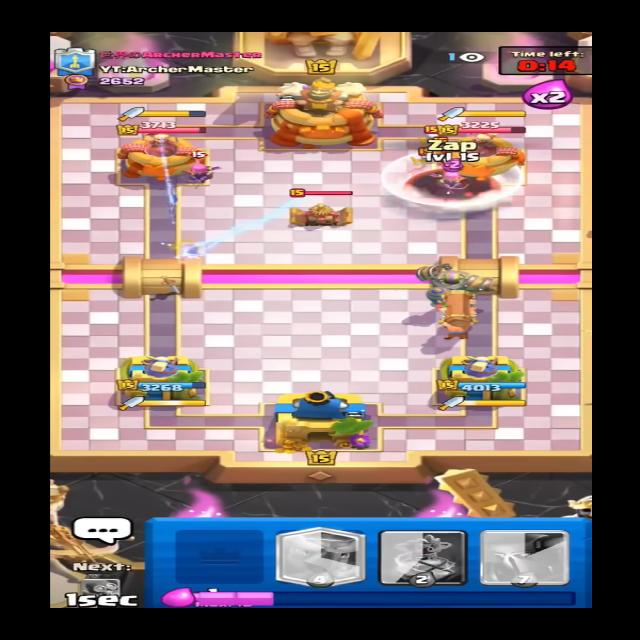evo-archers: (176, 151, 222, 185), (433, 160, 473, 199)
skeleton: (403, 144, 437, 167), (418, 125, 448, 144)
tesla: (282, 184, 356, 232)
